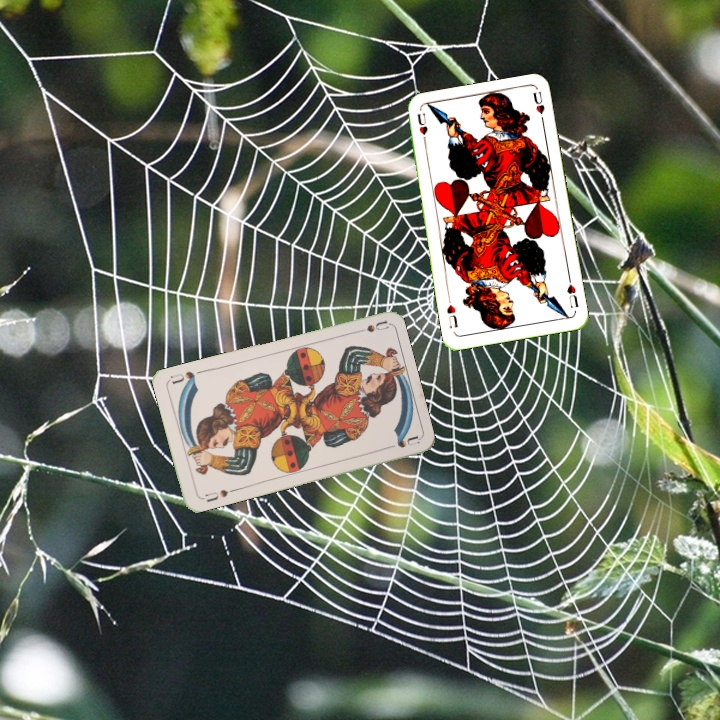HU: (563, 273, 581, 311), (413, 109, 430, 148)
SU: (349, 317, 390, 336), (201, 485, 238, 505)
